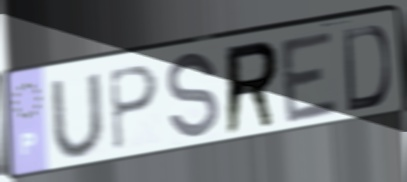D: (341, 22, 393, 115)
E: (277, 27, 341, 128)
P: (106, 62, 161, 155)
R: (222, 37, 281, 140)
S: (164, 48, 222, 146)
U: (46, 69, 108, 161)
